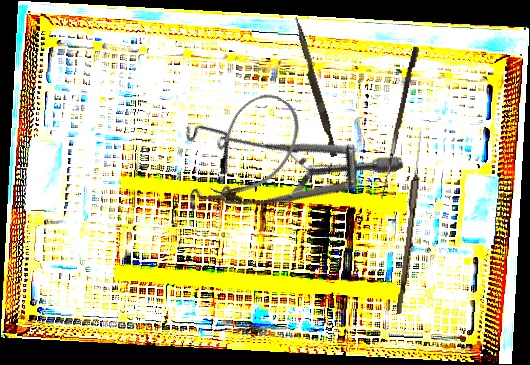Cannula: (194, 82, 314, 216)
Hook Surgical: (380, 46, 420, 201)
Pusher: (289, 16, 341, 158)
Speculum: (155, 45, 406, 265)
Surgical Spoon: (396, 130, 425, 315)
